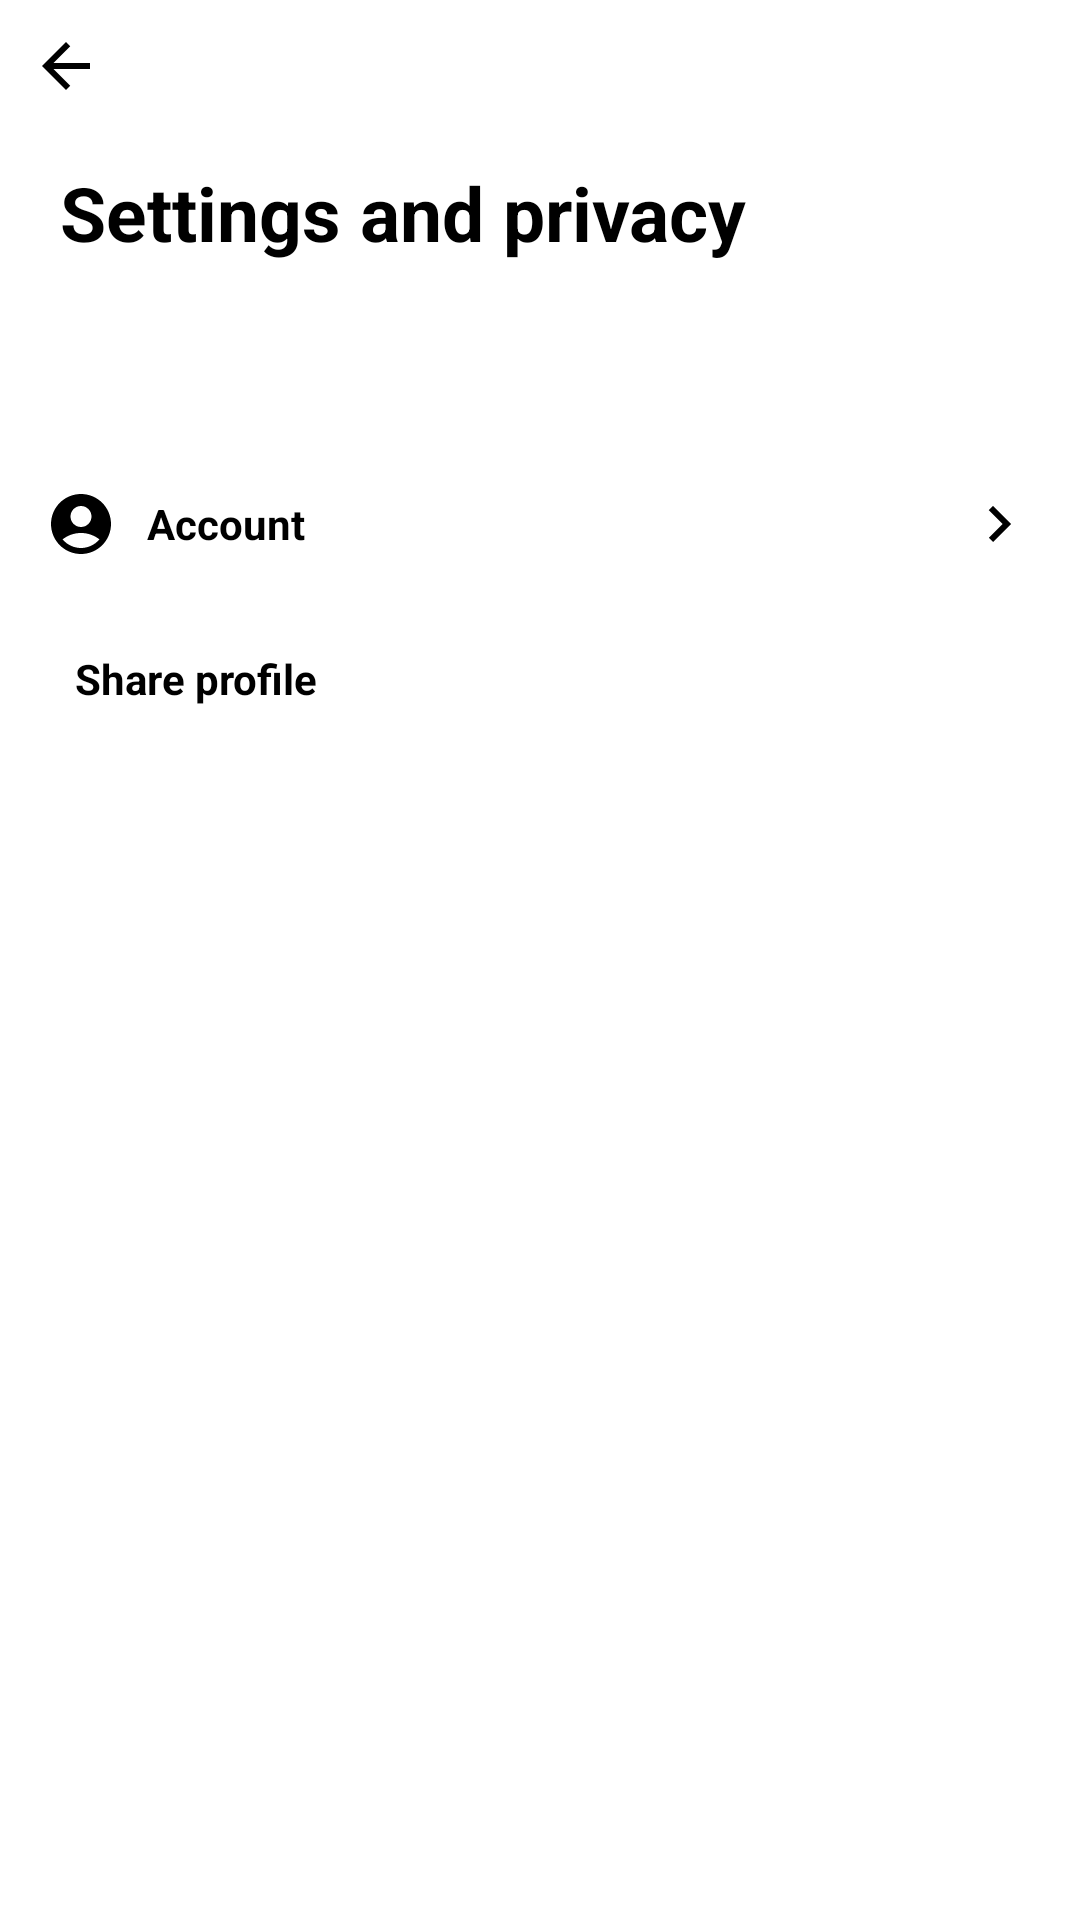

Screen size 1080w x 1920h. Icon name, then its center in pixels as [x,y]:
Go back to ProfileActivity: [66,66]
keyboard arrow right: [1000,524]
